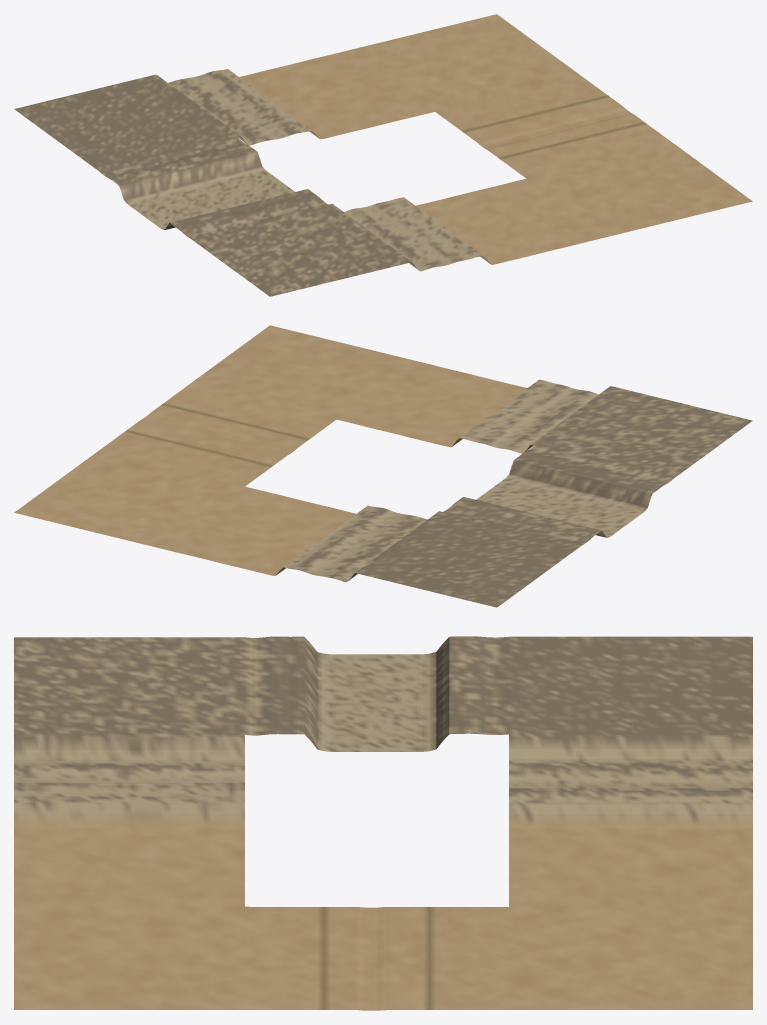
The model's file is backdrop_ground.glb.
3 views of the same model, one above another, from view 1: azimuth 30°, elevation 25°; view 2: azimuth 150°, elevation 25°; view 3: azimuth 270°, elevation 25° (orthographic). The views are drawn at different scales.
Visible parts, largest first — view 1: FarGround; view 2: FarGround; view 3: FarGround.
Boxes of the visible parts, box(x1,y1,x2,y2) form: FarGround: box(14, 14, 752, 296); FarGround: box(14, 325, 752, 607); FarGround: box(14, 636, 752, 1010).
Size of the model in its own units: 2440 by 115 by 2240.
